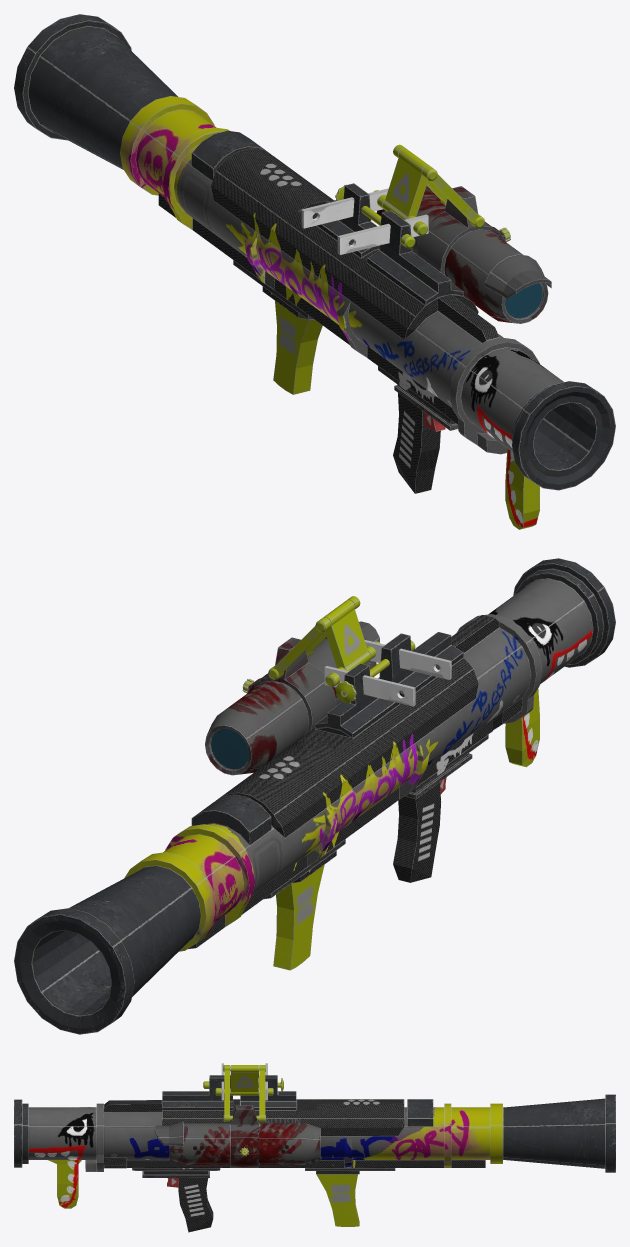
Rendered from bazooka.optimized.glb.
The picture shows the model from 3 angles, top to bottom: view 1: azimuth 30°, elevation 25°; view 2: azimuth 150°, elevation 25°; view 3: azimuth 270°, elevation 25°; orthographic projection. The views are drawn at different scales.
Visible parts, largest first — view 1: defaultMaterial (×8); view 2: defaultMaterial (×8); view 3: defaultMaterial (×6).
Part boxes in pixels (bbox=[...]): defaultMaterial (×8): bbox=[14, 14, 615, 529]; defaultMaterial (×8): bbox=[14, 558, 615, 1034]; defaultMaterial (×6): bbox=[14, 1065, 615, 1232].
Size of the model in its own units: 104 by 154 by 477.
9 materials, 9 textured.
